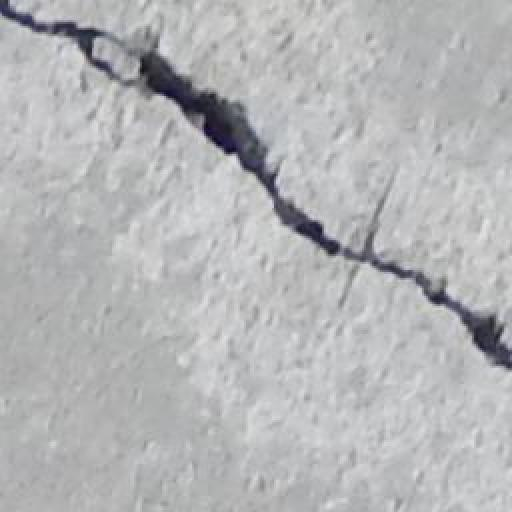spalling: (4, 9, 501, 387)
